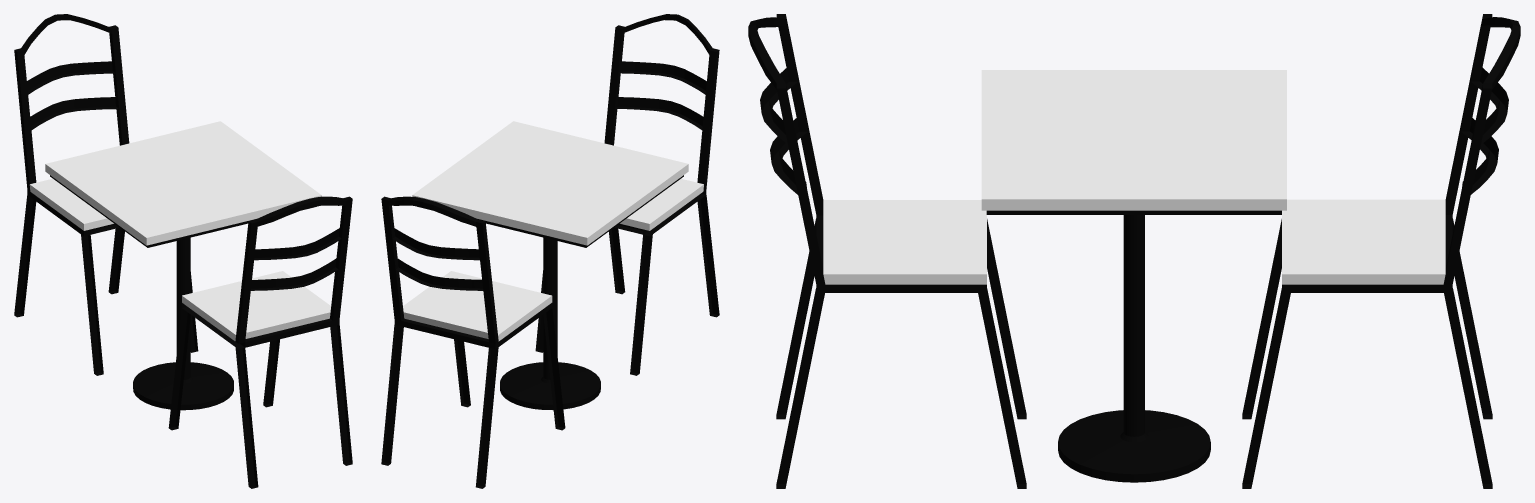
Rendered from Table_Black.fbx.
3 renders of one model, left to right at view 1: azimuth 30°, elevation 25°; view 2: azimuth 150°, elevation 25°; view 3: azimuth 270°, elevation 25°, orthographic. The views are drawn at different scales.
Visible parts, largest first — view 1: Table_Top, Chair_Mesh.2, Chair_Mesh, Table_Bottom, Chair_Puff.2, Chair_Puff; view 2: Table_Top, Chair_Mesh, Chair_Mesh.2, Table_Bottom, Chair_Puff, Chair_Puff.2; view 3: Table_Top, Chair_Mesh, Chair_Mesh.2, Table_Bottom, Chair_Puff, Chair_Puff.2.
Part boxes in pixels (x1=…): Table_Top: x1=45, y1=121, x2=321, y2=245; Chair_Mesh.2: x1=168, y1=196, x2=352, y2=488; Chair_Mesh: x1=14, y1=14, x2=198, y2=375; Table_Bottom: x1=50, y1=175, x2=316, y2=410; Chair_Puff.2: x1=182, y1=271, x2=331, y2=340; Chair_Puff: x1=29, y1=178, x2=113, y2=230; Table_Top: x1=412, y1=121, x2=688, y2=245; Chair_Mesh: x1=381, y1=196, x2=565, y2=488; Chair_Mesh.2: x1=535, y1=14, x2=719, y2=375; Table_Bottom: x1=417, y1=175, x2=683, y2=410; Chair_Puff: x1=403, y1=271, x2=552, y2=341; Chair_Puff.2: x1=620, y1=178, x2=703, y2=230; Table_Top: x1=981, y1=70, x2=1286, y2=210; Chair_Mesh: x1=1242, y1=14, x2=1520, y2=488; Chair_Mesh.2: x1=748, y1=14, x2=1026, y2=488; Table_Bottom: x1=986, y1=210, x2=1281, y2=482; Chair_Puff: x1=1282, y1=199, x2=1445, y2=284; Chair_Puff.2: x1=823, y1=200, x2=986, y2=284.
Bounding box in the file's own units: 400 × 616 × 1011.
6 materials, 6 textured.
